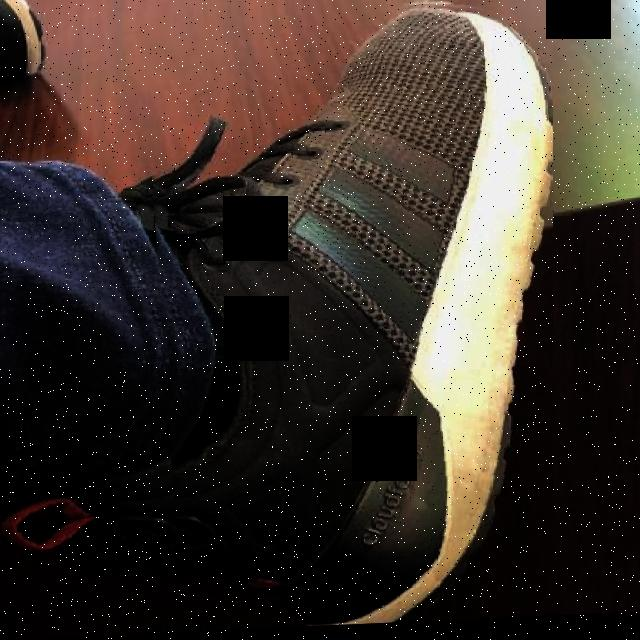shoe: (141, 0, 553, 635)
